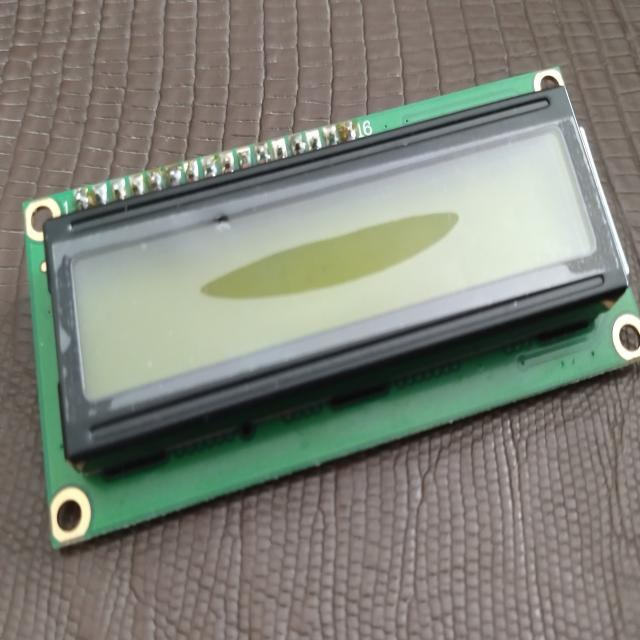lcd: (18, 53, 640, 574)
